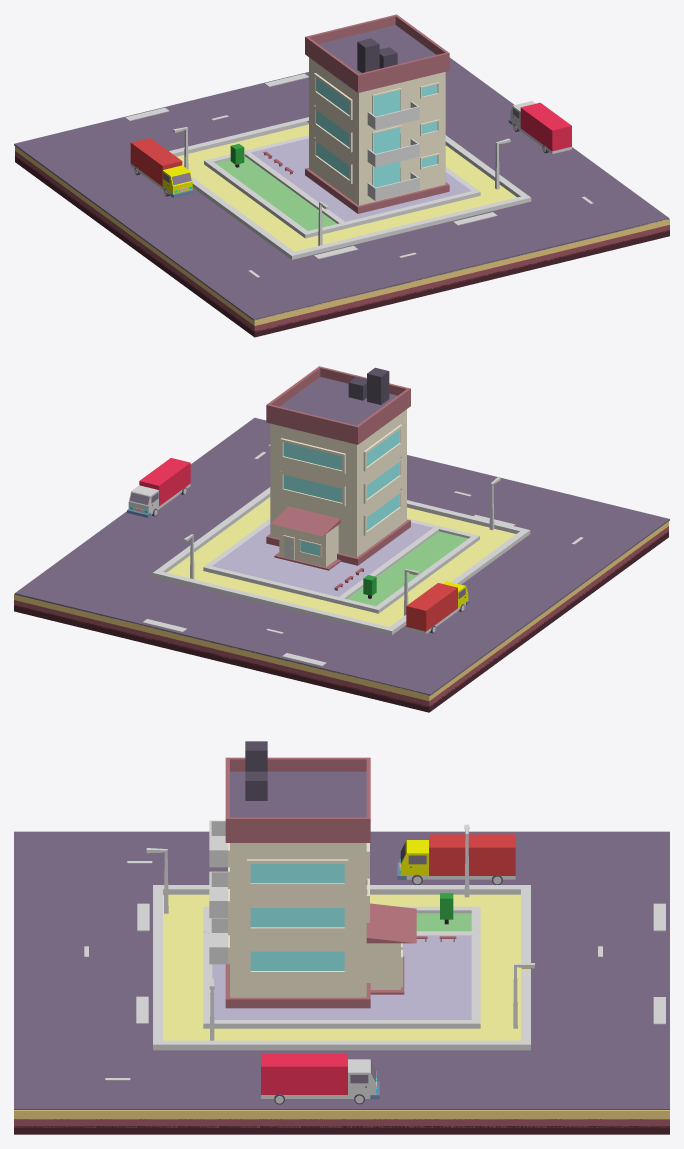
3 renders of one model, top to bottom at view 1: azimuth 30°, elevation 25°; view 2: azimuth 150°, elevation 25°; view 3: azimuth 270°, elevation 25°, orthographic. The views are drawn at different scales.
Visible parts, largest first — view 1: Plano.002, Plano.003; view 2: Plano.002, Plano.003; view 3: Plano.002, Plano.003.
Boxes of the visible parts, <box> form: Plano.002: <box>15,14,669,337</box>; Plano.003: <box>14,57,668,320</box>; Plano.002: <box>14,366,668,712</box>; Plano.003: <box>15,417,669,695</box>; Plano.002: <box>14,741,669,1134</box>; Plano.003: <box>14,831,669,1109</box>.
Bounding box in the file's own units: 6.01 × 2.49 × 6.
